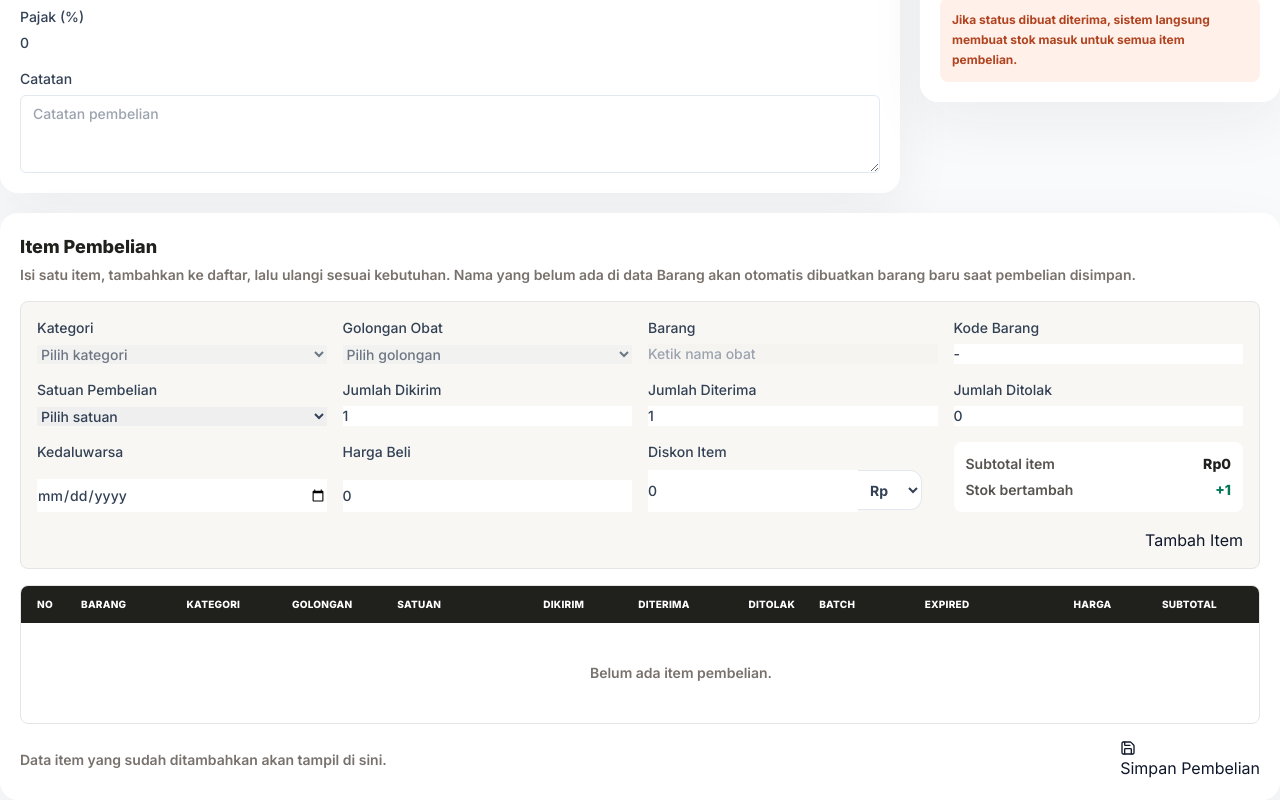
PembelianForm › computes item subtotal from a percentage discount when that mode is selected
(page scrolled)
Replace the text in the number field labelled "Harga Beli" with "100" at {"x": 487, "y": 496}, box [342,480,632,512]
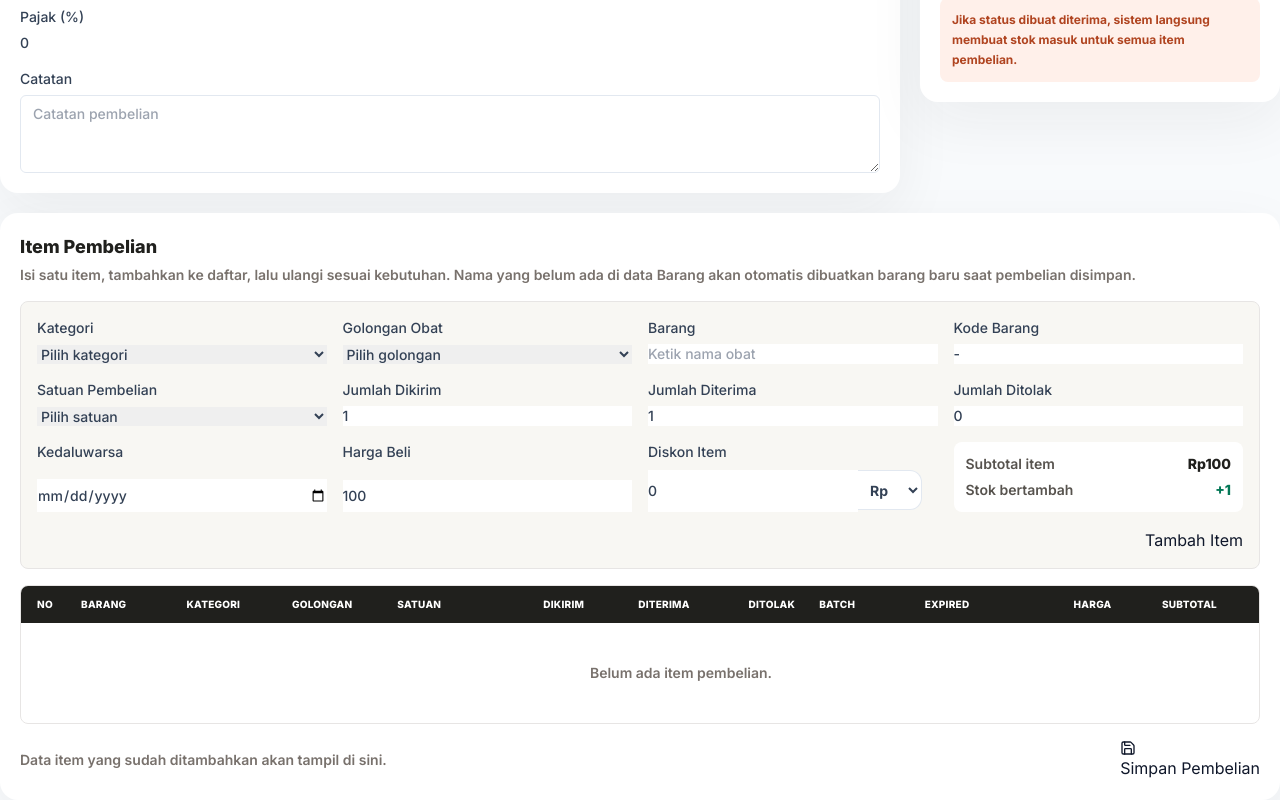
Select "%" in the dropdown named "Mode Diskon Item" at {"x": 890, "y": 490}, box [858,470,922,510]
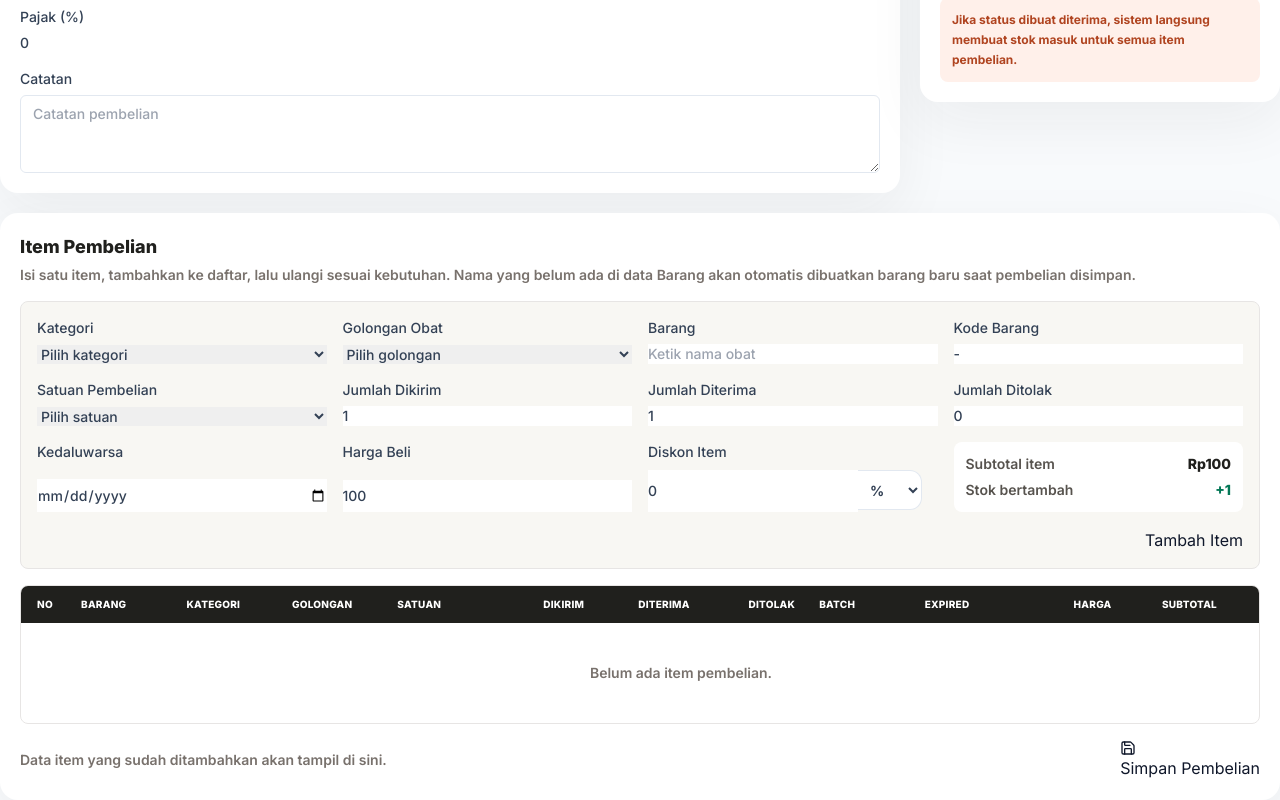
Replace the text in the number field named "Diskon Item" with "10" at {"x": 753, "y": 491}, box [648,470,858,512]
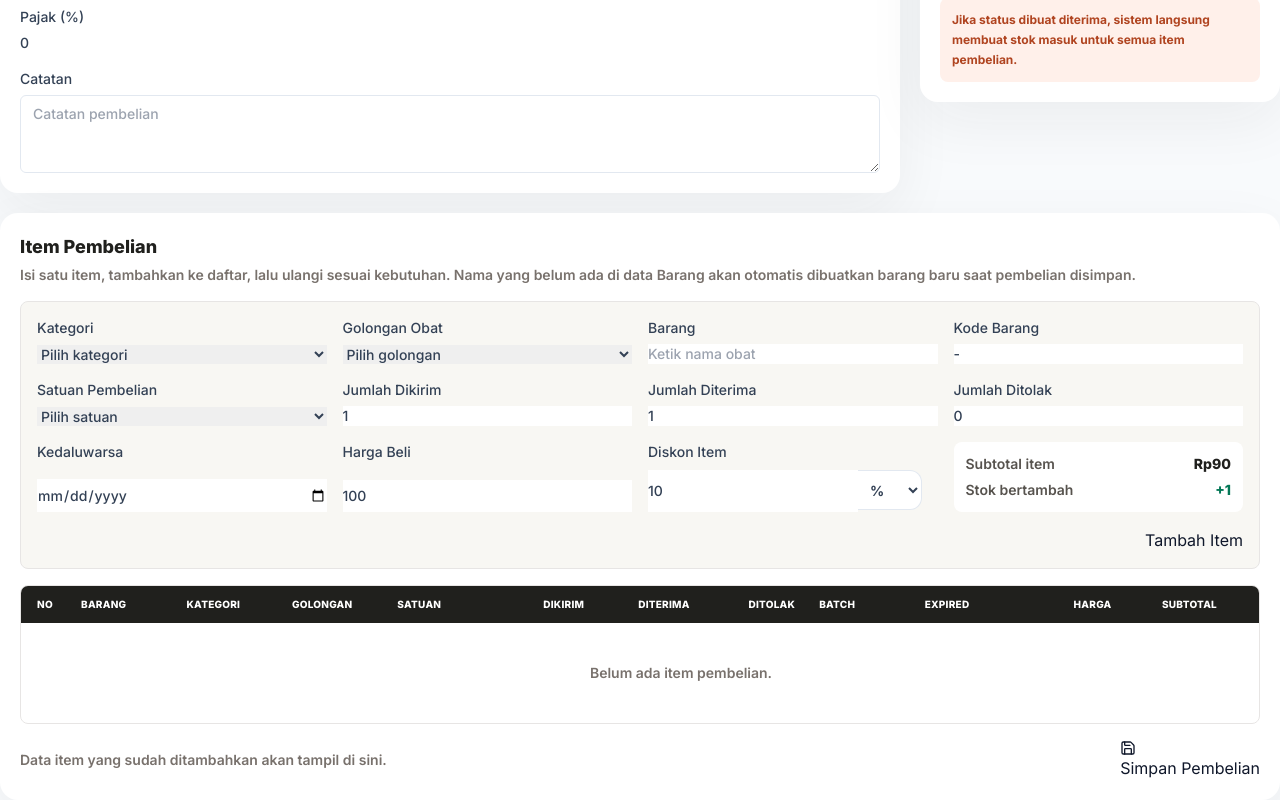
Expected: the text "Rp90" is shown, [1194,454,1231,474]
